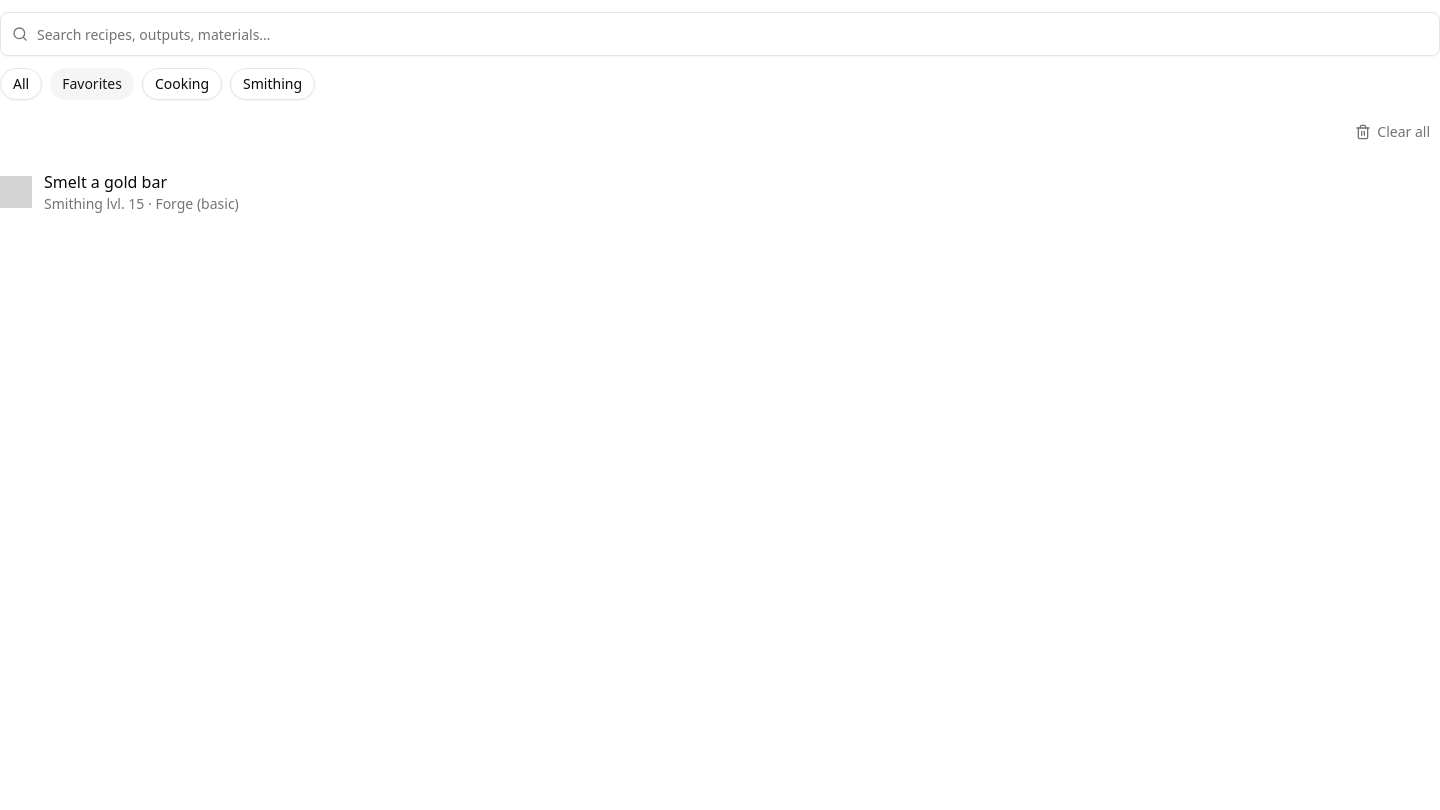
Test: RecipeSearch favorites › drops the chip and the filter after clearing favorites
Click the button "Clear all": (1393, 132) [1345,116,1439,148]
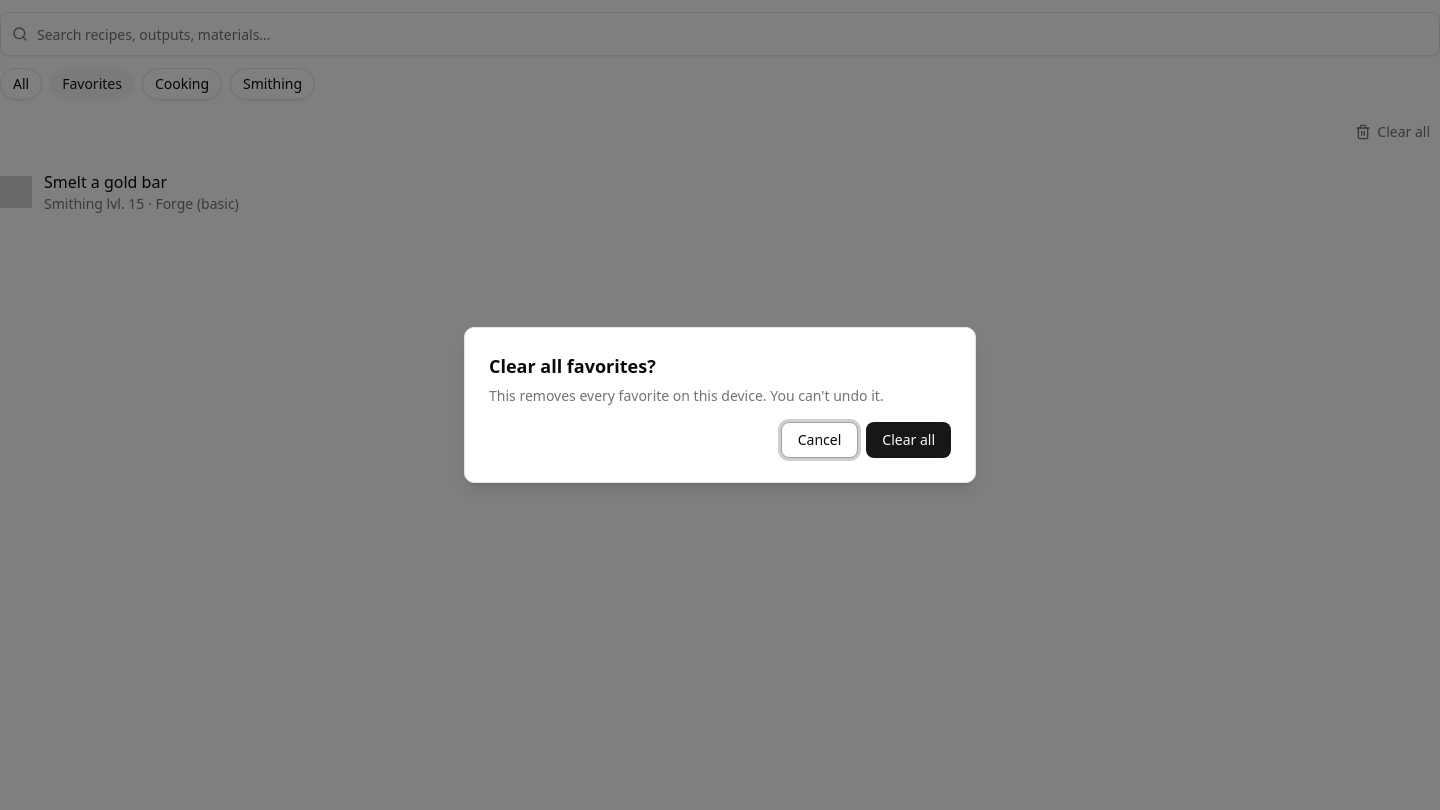
Click the button "Clear all": (909, 440) [866,422,951,458]
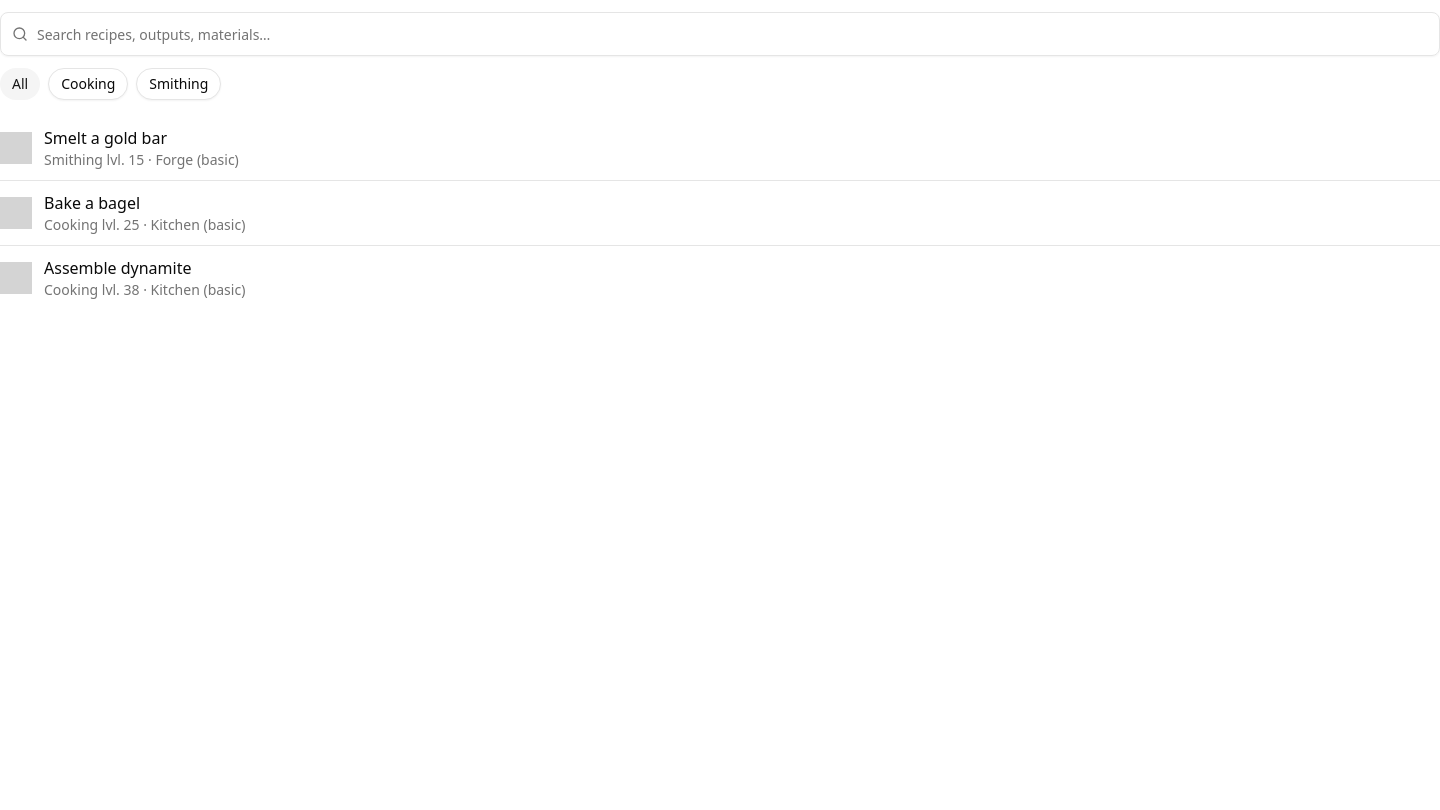
Result: the button "Favorites" is gone
